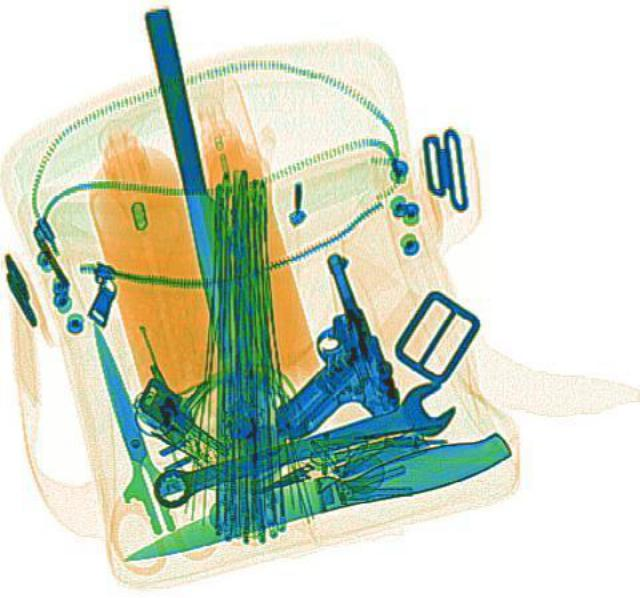Gun: (220, 246, 408, 444)
Knife: (115, 420, 515, 575), (136, 2, 278, 418), (64, 316, 192, 537)
Wrench: (141, 374, 463, 513)
